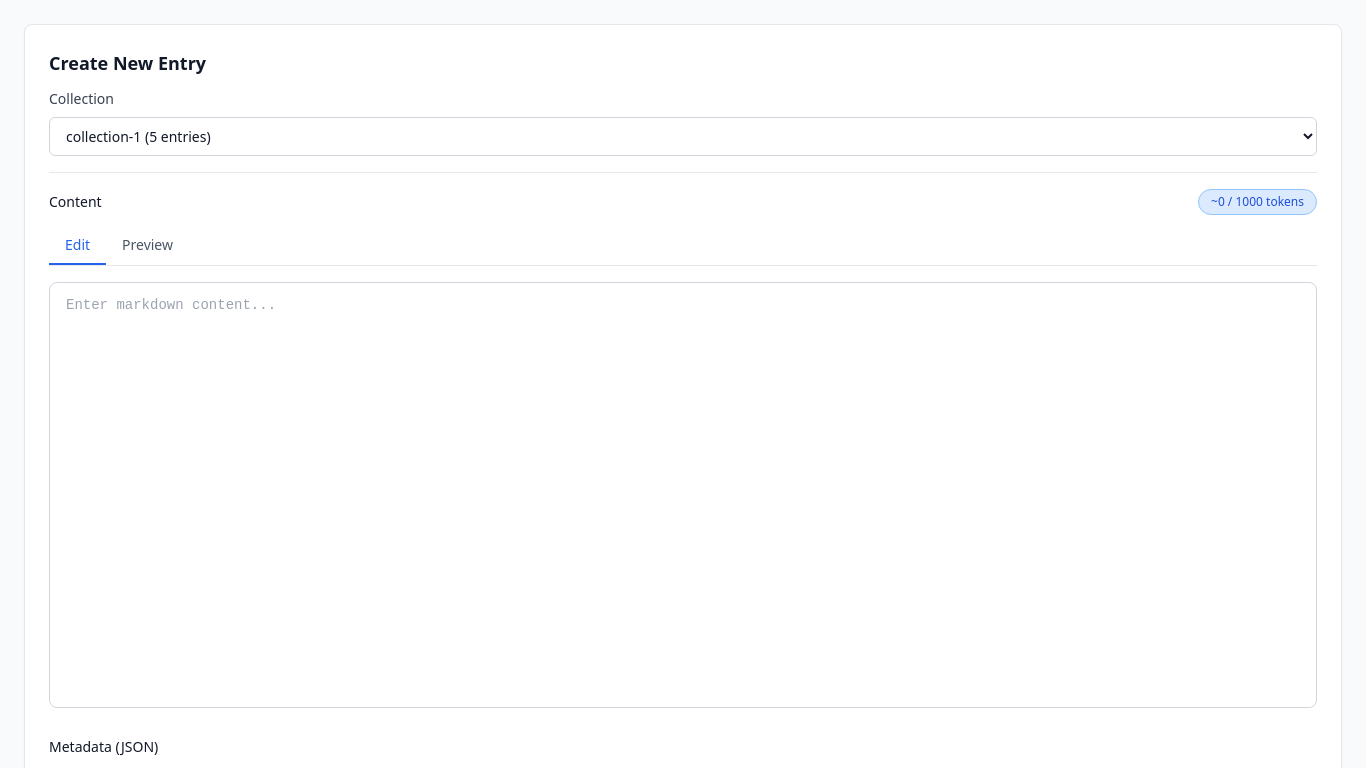
it: ArticleEditor › Error Handling › should display save failure error message
The width and height of the screenshot is (1366, 768).
Type "Test content" into the text box with placeholder "Enter markdown content...". click: (683, 495)
box: 49,282 -> 1317,708
(page scrolled)
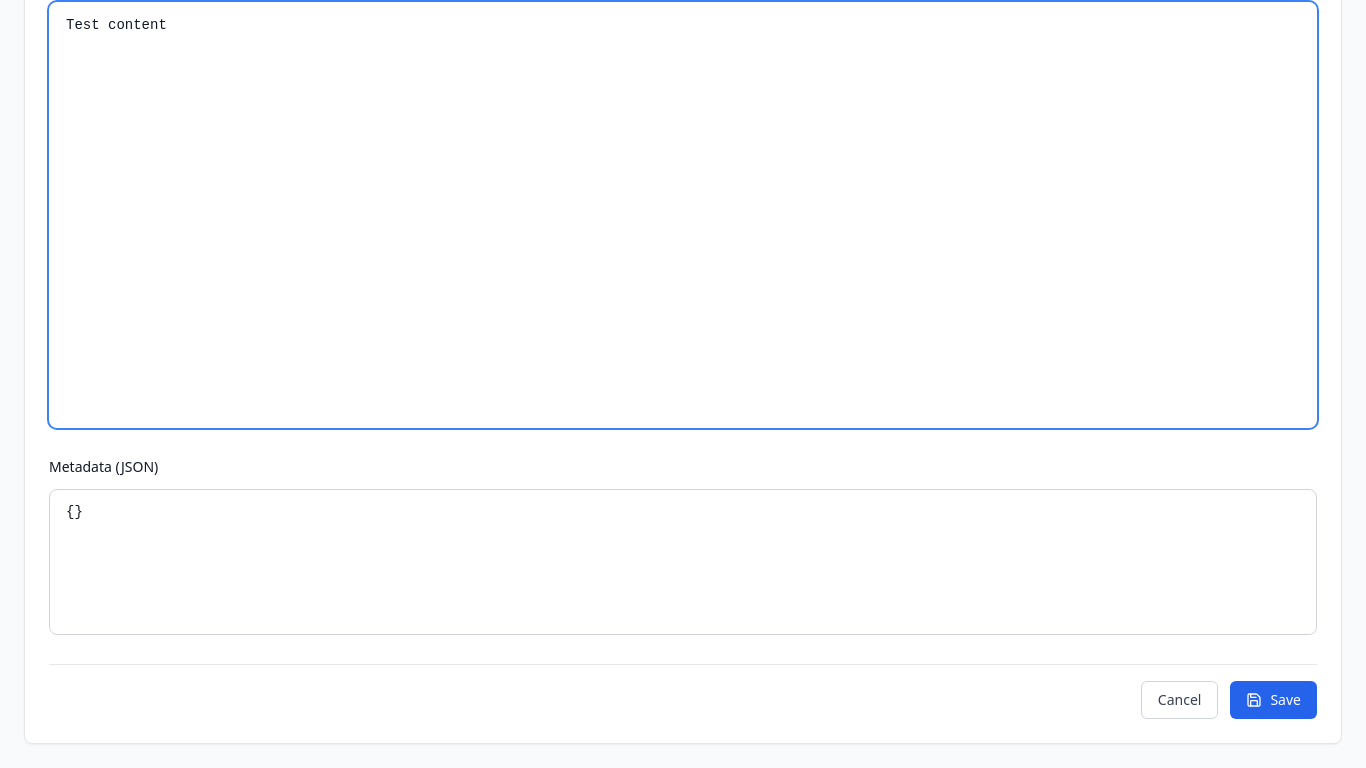
Click the button "Save". click: (1274, 700)
box: 1230,681 -> 1317,719
(page scrolled)
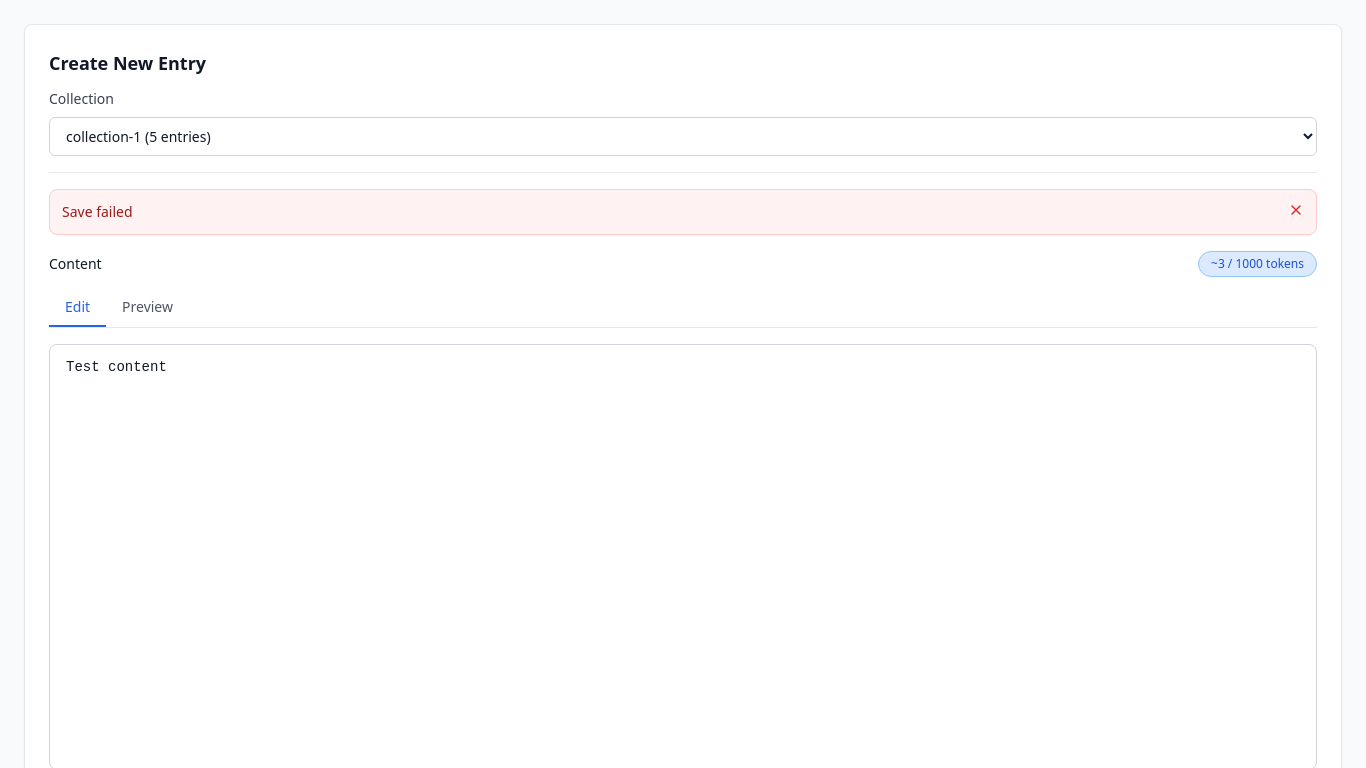
Check: the text "Save failed" is shown, box 62,202 -> 133,222
